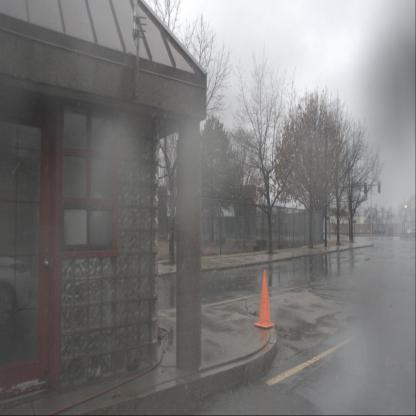cone: (254, 269, 275, 329)
